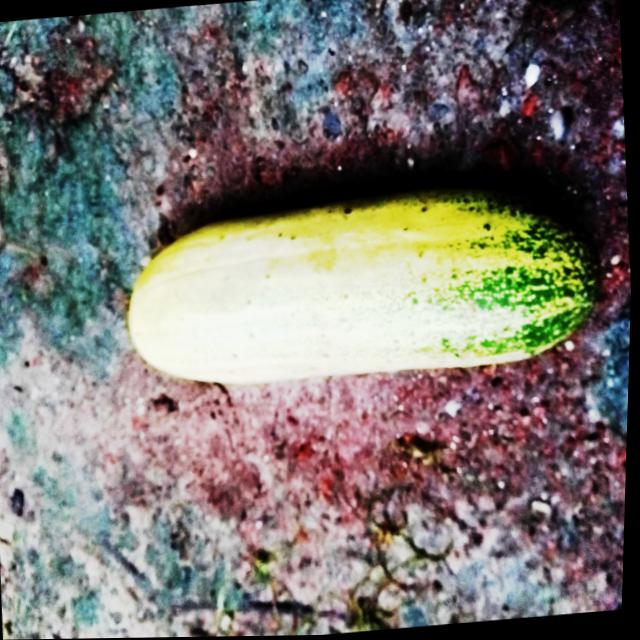Fresh-Cucumber: (120, 179, 611, 400)
